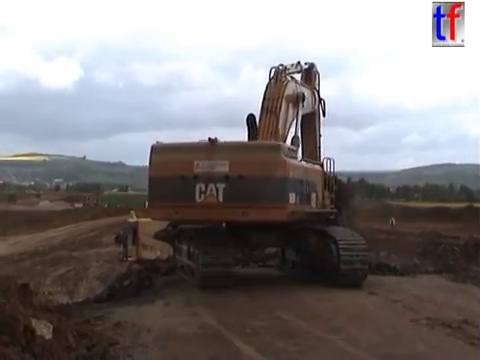excavator: (144, 58, 373, 290), (78, 191, 104, 213)
truck: (112, 208, 283, 293), (1, 189, 18, 205), (33, 190, 44, 200)
worker: (387, 212, 399, 232)
